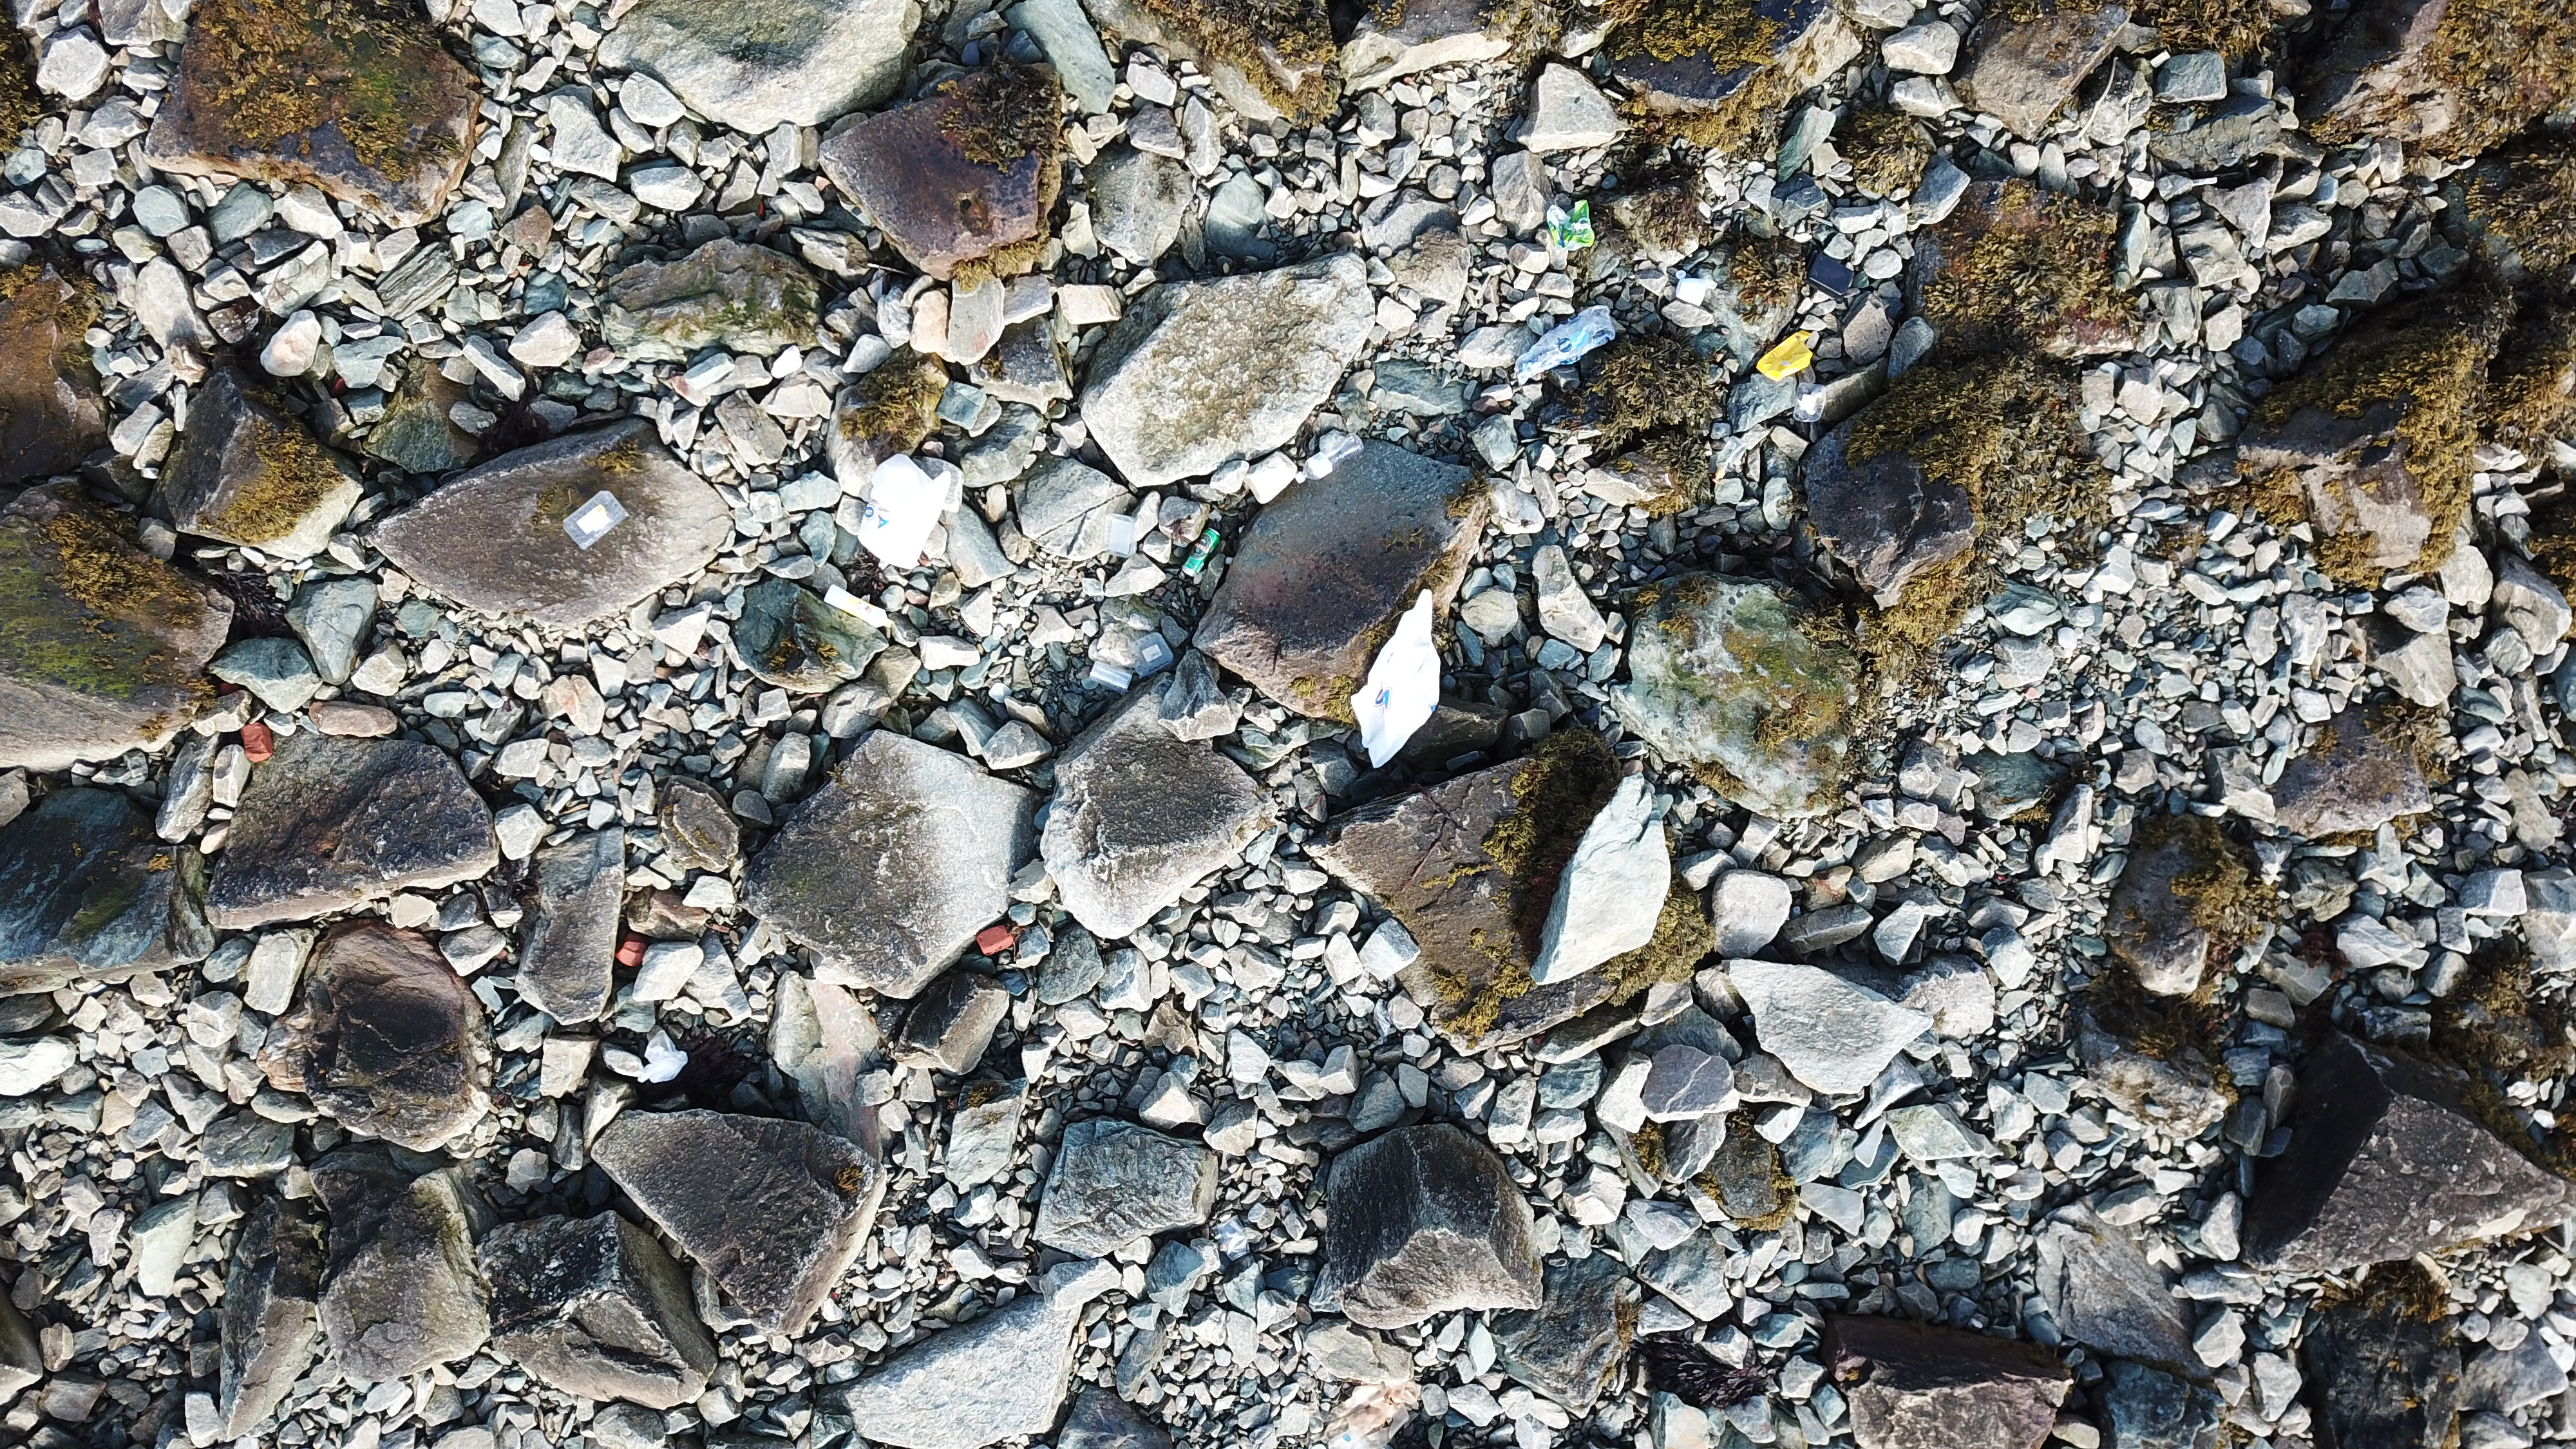Can: (1182, 527, 1223, 579)
Plastic: (1348, 589, 1447, 771), (858, 453, 952, 571), (1513, 303, 1617, 386), (564, 492, 630, 552), (824, 586, 895, 630), (1757, 331, 1813, 384), (637, 1030, 688, 1085), (1546, 200, 1598, 253), (1801, 253, 1856, 301), (1131, 632, 1175, 678), (1100, 513, 1138, 559), (1092, 658, 1134, 695), (1794, 384, 1829, 425), (1674, 278, 1709, 308)
